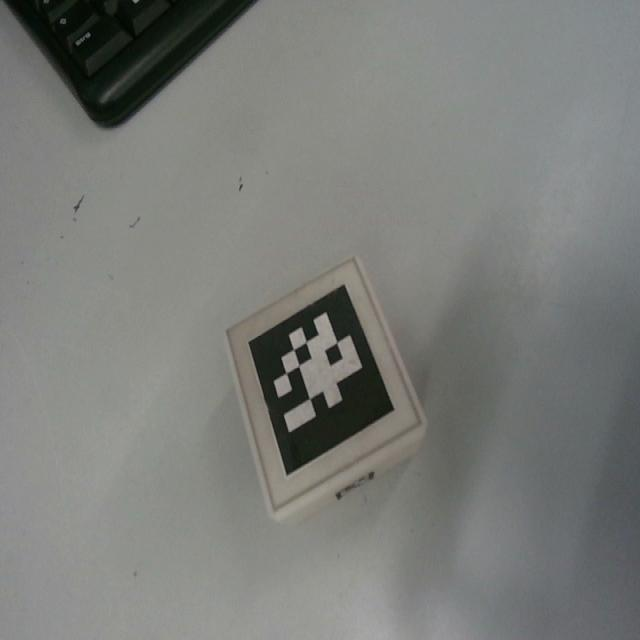Cube: (223, 253, 428, 524)
